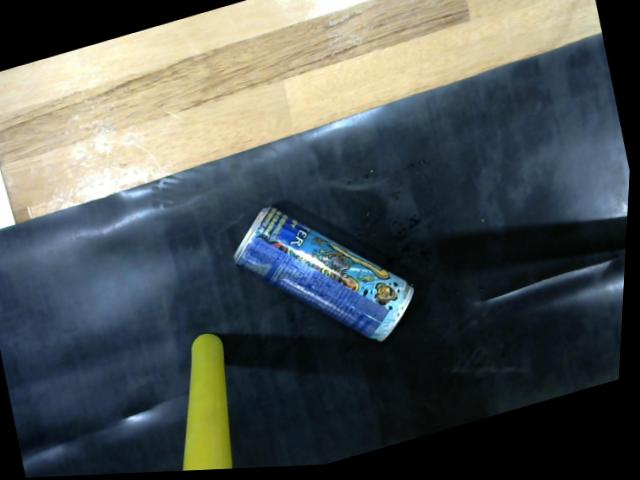can: (224, 196, 428, 358)
